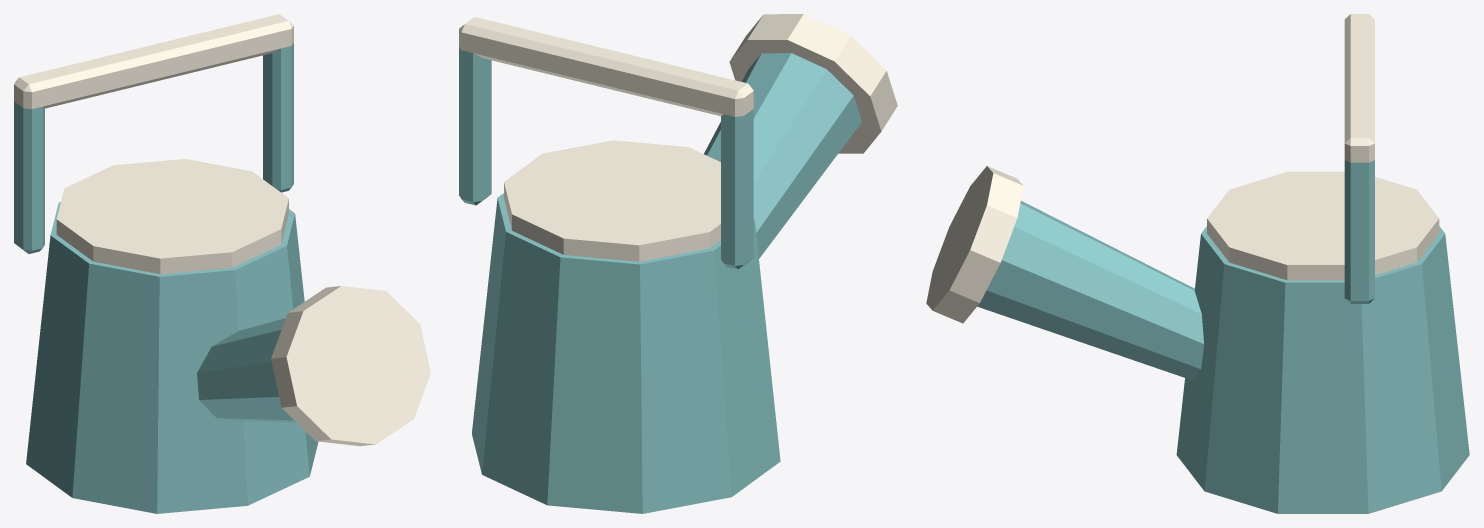
File: watering_can.glb
The picture shows the model from 3 angles, left to right: view 1: azimuth 30°, elevation 25°; view 2: azimuth 150°, elevation 25°; view 3: azimuth 270°, elevation 25°; orthographic projection. The views are drawn at different scales.
Parts seen in each view (by area): view 1: watering_can; view 2: watering_can; view 3: watering_can.
Boxes of the visible parts, x1,y1,x2,y2 form: watering_can: (14,14,430,513); watering_can: (459,14,897,513); watering_can: (926,14,1469,513).
Bounding box in the file's own units: 0.5 × 0.685 × 0.8899.
